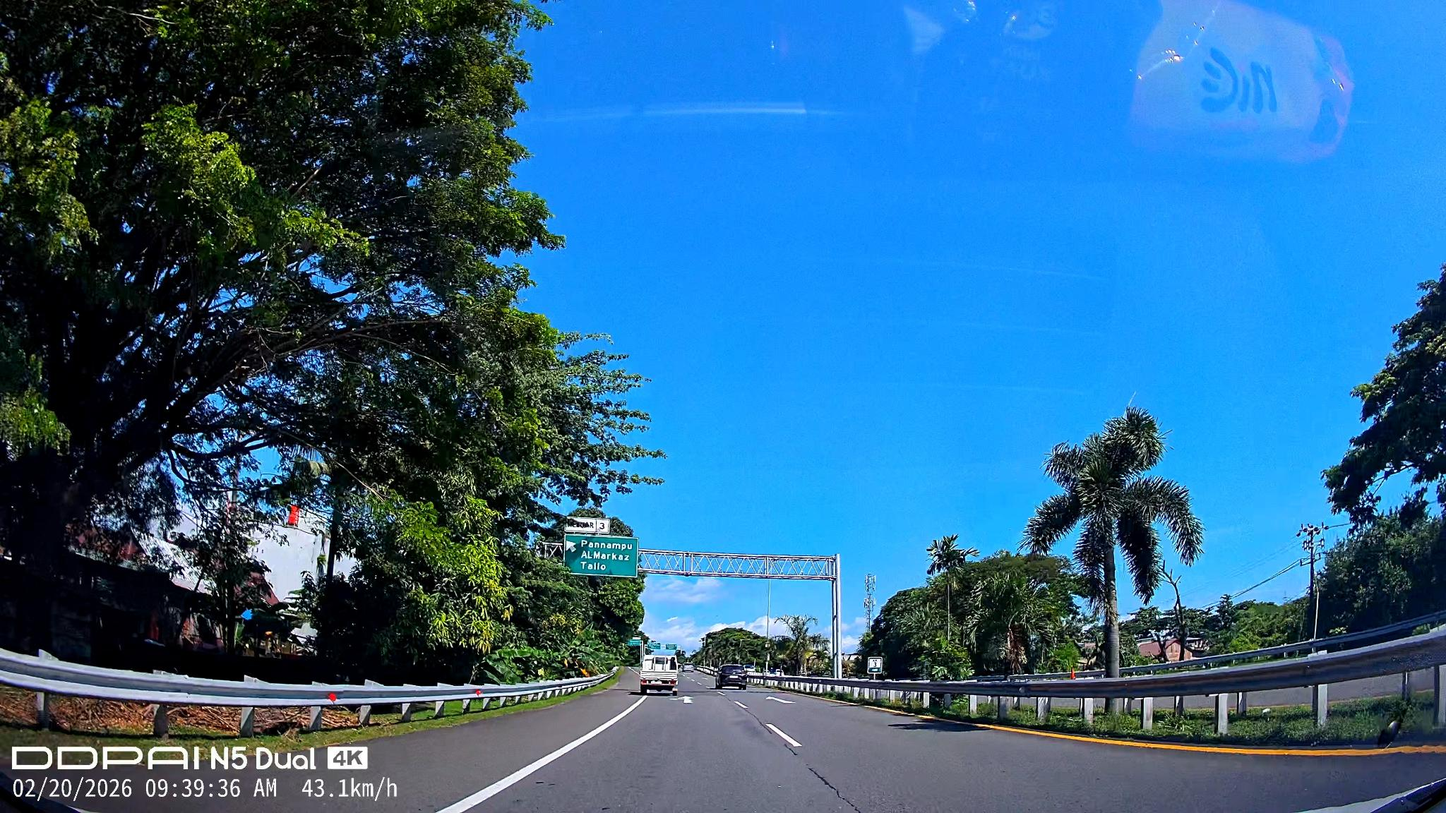rambu_teks: (564, 534, 638, 578)
